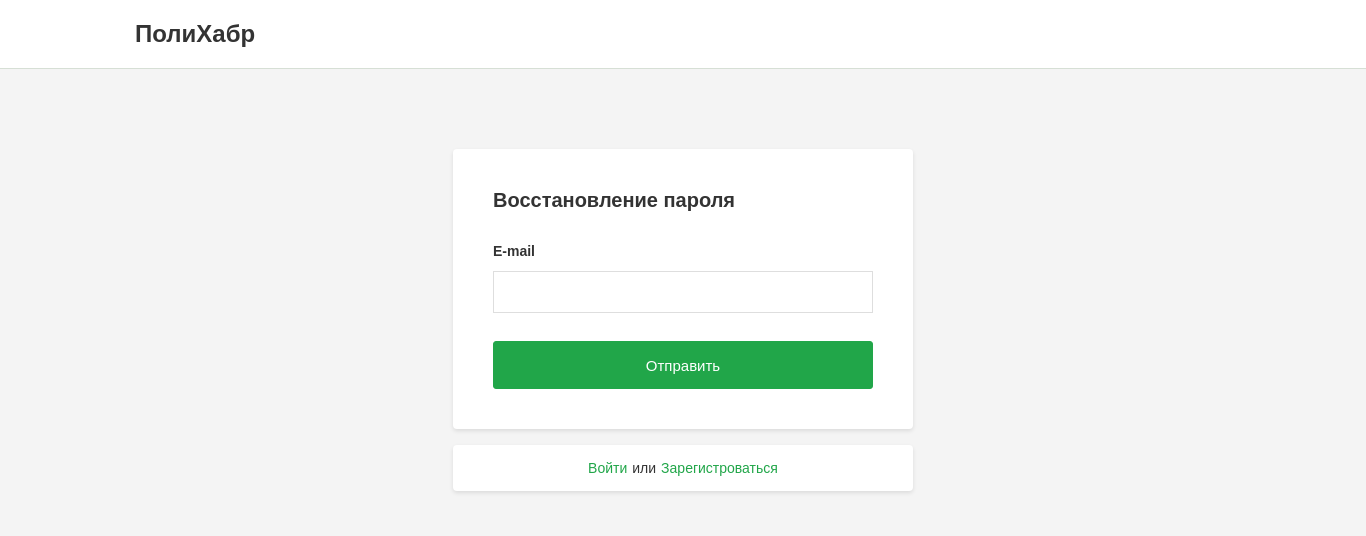
it: Bad remember pass
Type "admincheck" into the field at (683, 292), box [493,271,873,313]
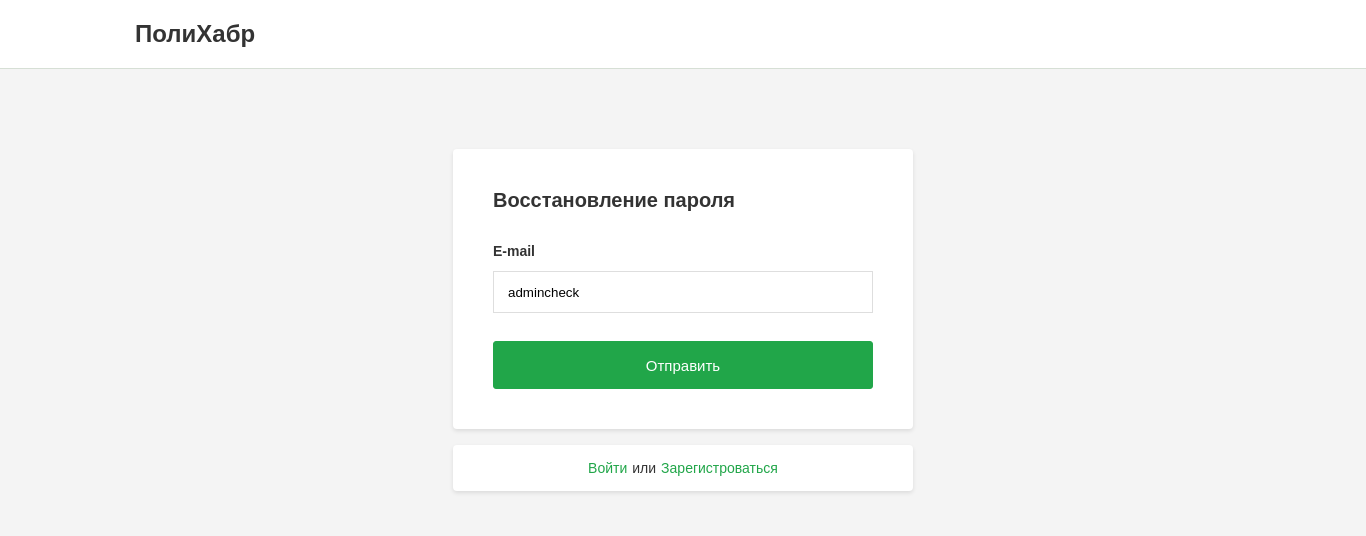
Click the button with class "enter" at (683, 365), box [493,341,873,389]
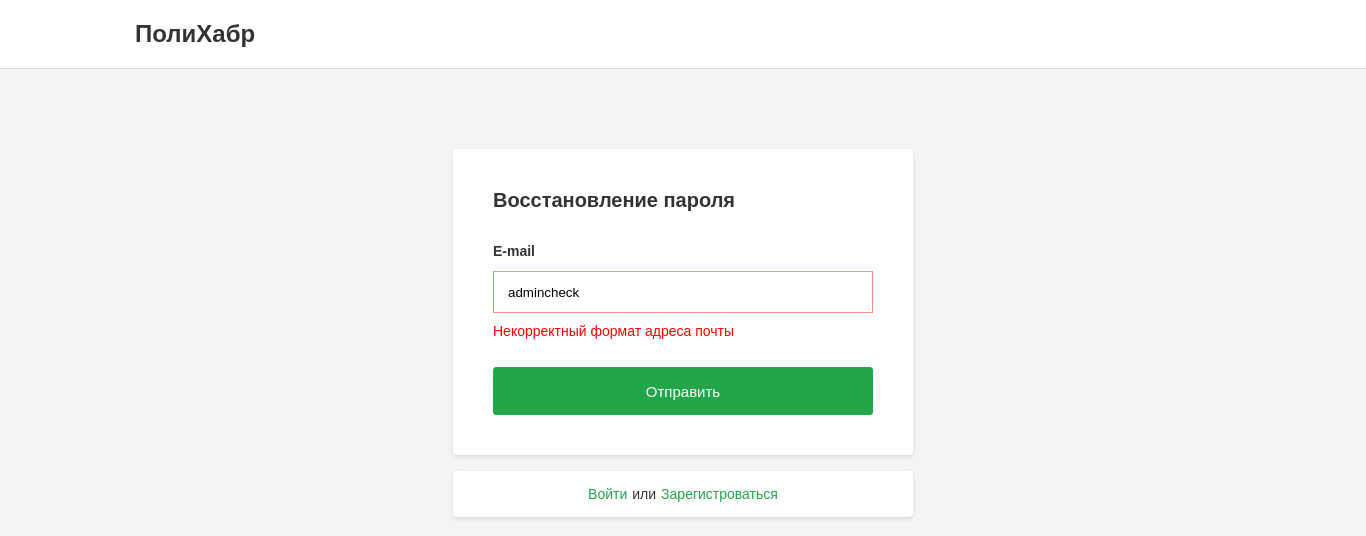
Now the text with class "error-text" reads "Некорректный формат адреса почты", box [493,323,734,339]
